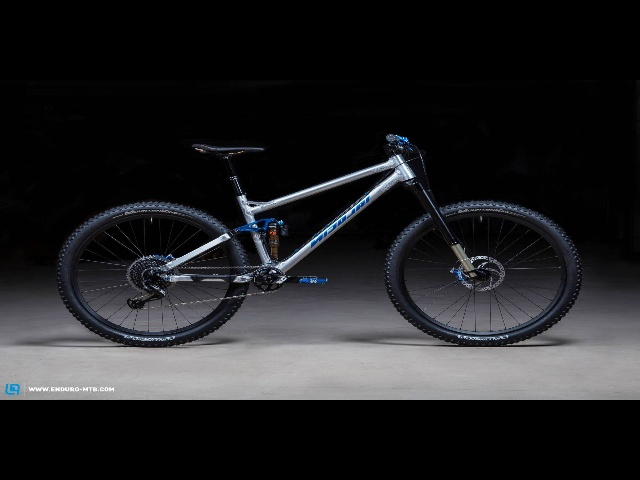bike: (52, 118, 592, 356)
